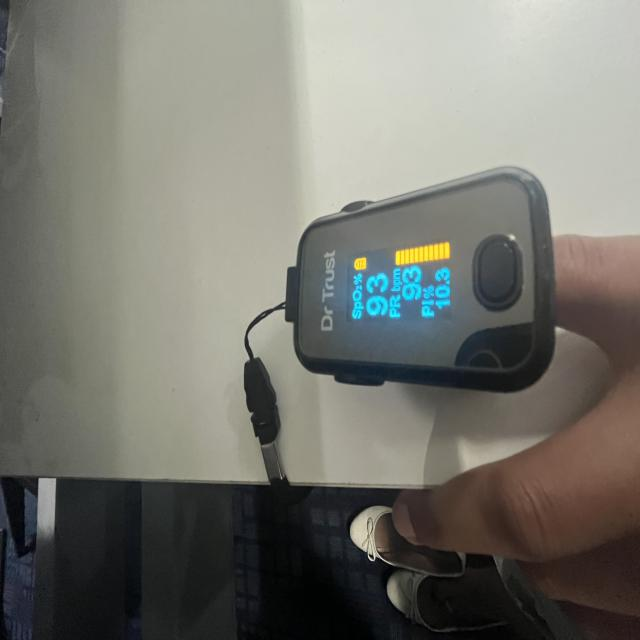spo2: (284, 166, 557, 394)
